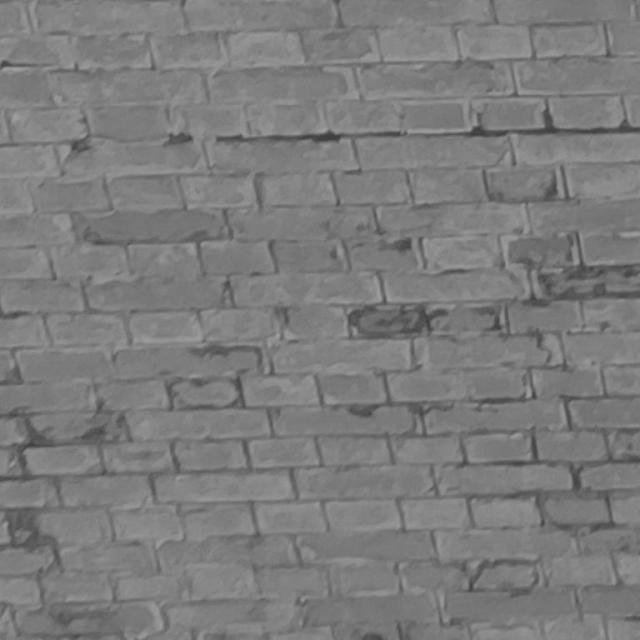crack: (164, 108, 638, 148)
